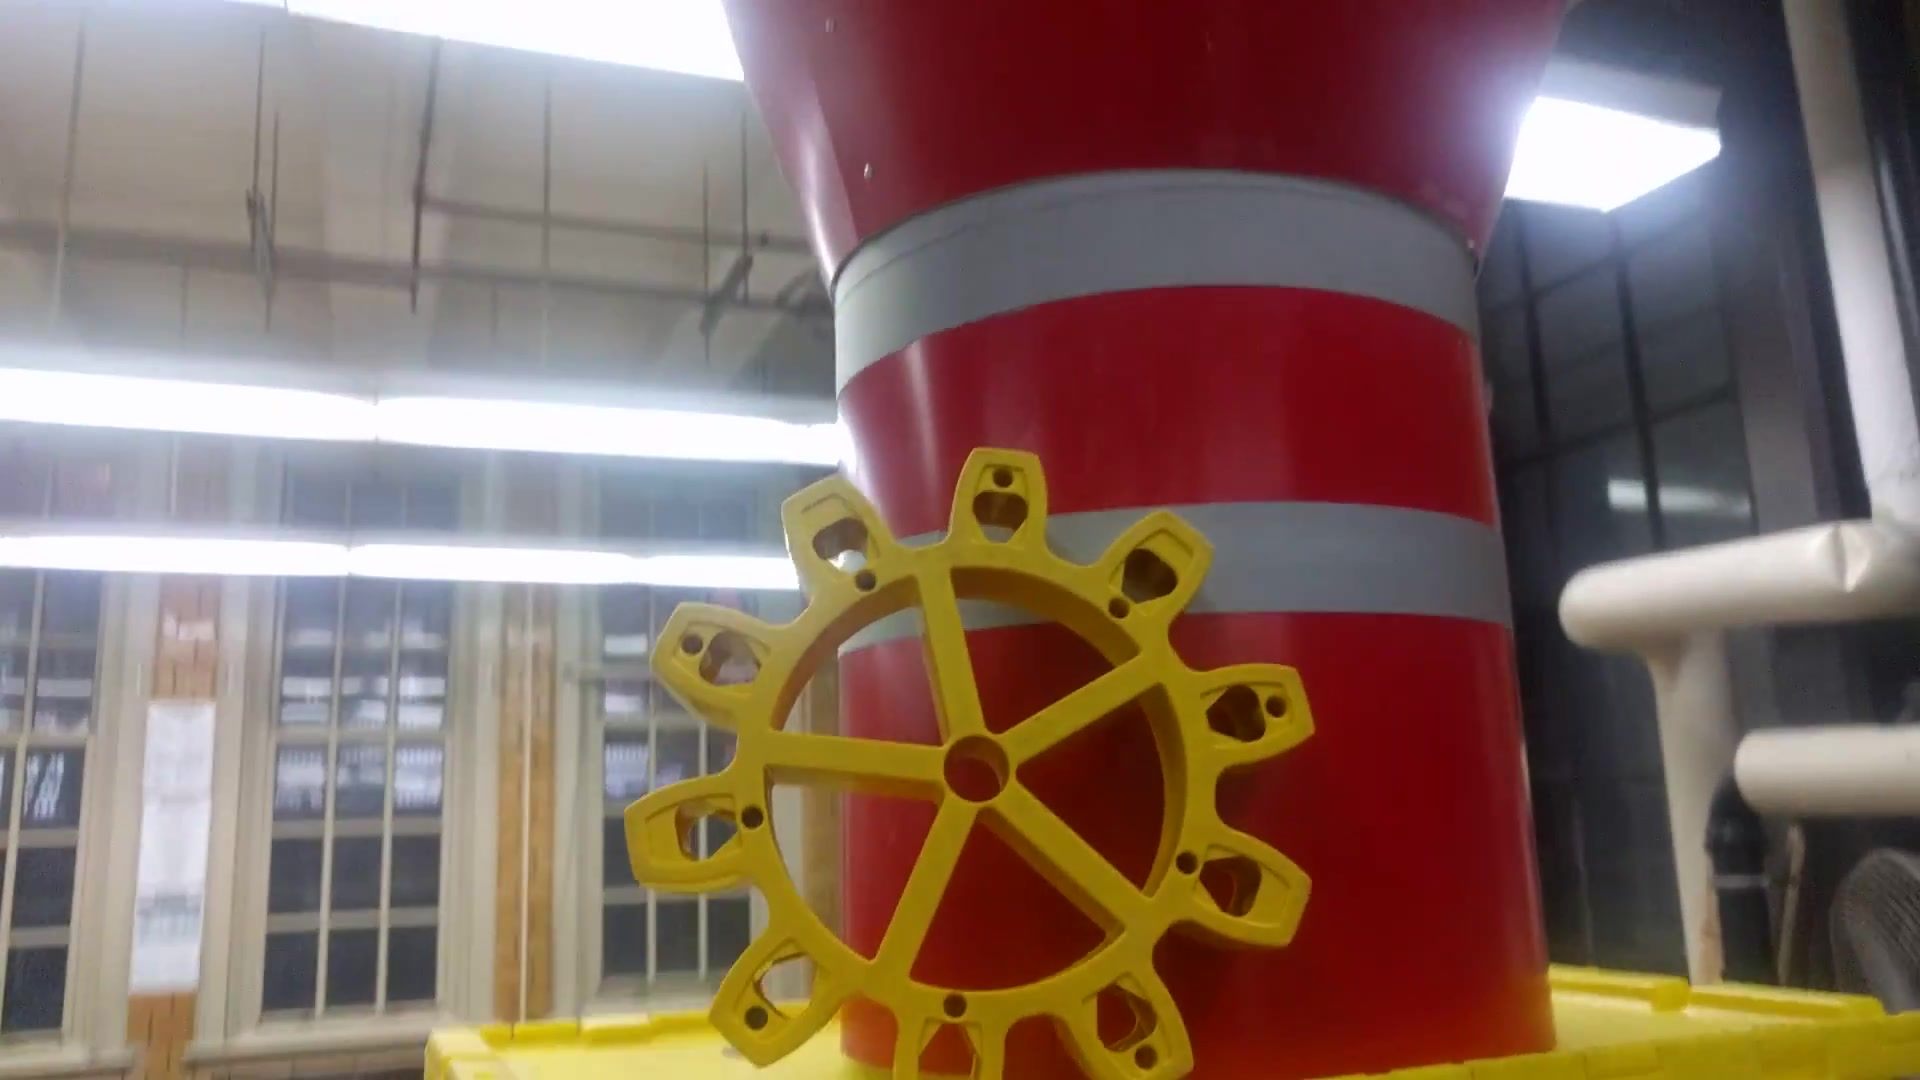gear: (603, 456, 1338, 1080)
